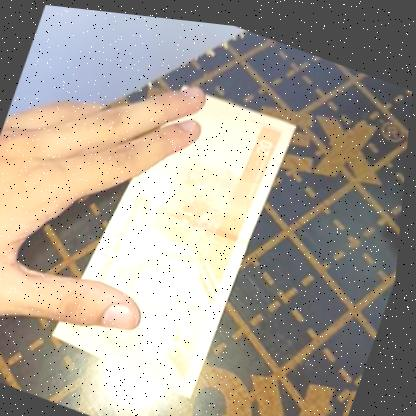twenty-back-vef: (51, 58, 302, 403)
